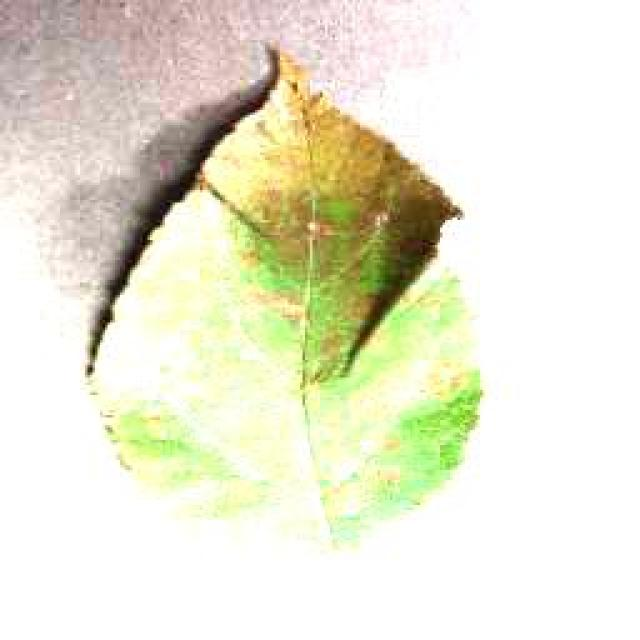apple scab disease: (80, 40, 482, 550)
